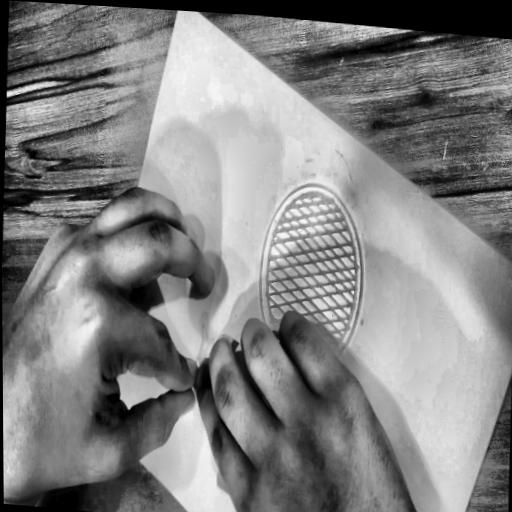badminton: (150, 116, 449, 512)
bottom_right: (76, 397, 87, 414)
